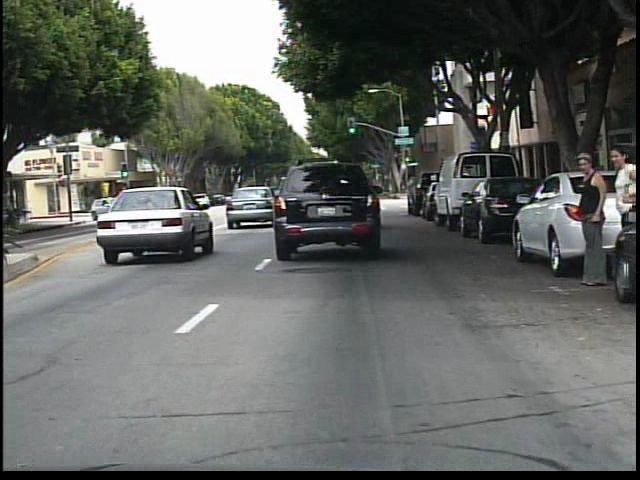person: (601, 141, 639, 286), (568, 152, 607, 290)
